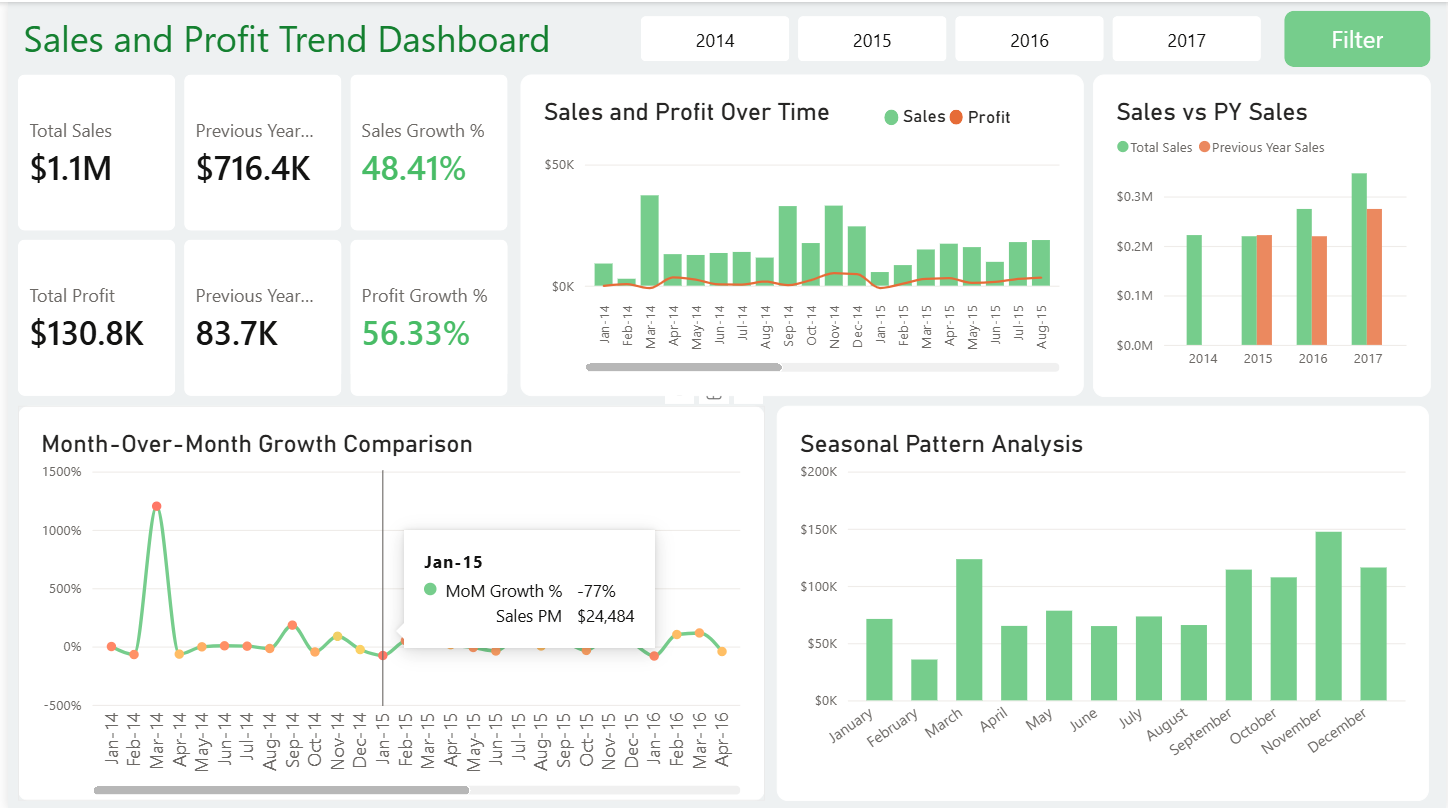

The dashboard page shown, as its layout file describes it:
{"tool":"powerbi","page":{"name":"Sales and Profit Trend Dashboard","canvas":[1280,720],"ordinal":1},"visuals":[{"type":"textbox","box":[9.3,5.8,538.2,59.4],"z":0},{"type":"lineChart","title":"Sales and Profit Over Time","fields":{"Category":["Dim_Date.Year-Month"],"Y":["Fact_Sales.Total Sales"],"Y2":["Fact_Sales.Total Profit"]},"box":[456.5,64.6,501.2,286.2],"z":0,"group":"g2"},{"type":"shape","box":[780.9,95.8,12.7,14.1],"z":0,"group":"g1"},{"type":"clusteredColumnChart","title":"Sales vs PY Sales ","fields":{"Y":["Fact_Sales.Total Sales","Fact_Sales.Previous Year Sales"],"Category":["Dim_Date.Year"]},"box":[966.2,64.6,300.6,287.2],"z":1000},{"type":"group","id":"g1","title":"Group 3","box":[780.9,92.8,116.2,19.4],"z":1000,"group":"g2"},{"type":"shape","box":[839,96.3,12.3,13.6],"z":1000,"group":"g1"},{"type":"shape","title":"Sales","box":[797.1,92.8,38.4,18.6],"z":2000,"group":"g1"},{"type":"lineChart","title":"Month-Over-Month Growth Comparison","fields":{"Category":["Dim_Date.Year-Month","Dim_Date.Year"],"Y":["Fact_Sales.MoM Growth %"]},"box":[8.9,359.6,664.6,351.8],"z":2000},{"type":"cardVisual","fields":{"Data":["Fact_Sales.Total Sales","Fact_Sales.Previous Year Sales","Fact_Sales.Sales Growth %","Fact_Sales.Total Profit","Fact_Sales.Previous Year Profit","Fact_Sales.Profit Growth %"]},"box":[8.9,64.6,437.5,287.2],"z":3000},{"type":"shape","title":"Profit","box":[856,93.4,41.1,18.6],"z":3000,"group":"g1"},{"type":"group","id":"g2","title":"Group 4","box":[456.5,64.6,501.2,286.2],"z":4000},{"type":"clusteredColumnChart","title":"Seasonal Pattern Analysis","fields":{"Y":["Fact_Sales.Total Sales"],"Category":["Dim_Date.Month Name"]},"box":[684.6,359.6,581.1,351.8],"z":5000},{"type":"advancedSlicerVisual","fields":{"Values":["Dim_Date.Year"]},"box":[556.6,7.8,565.5,50.1],"z":5500},{"type":"actionButton","title":"Filter Button","box":[1136.6,7.8,130.2,50.1],"z":6000}]}

Visuals, with their boxes in screenshot pixels (x1, y1, x2, y2), scaled from the page's 1280x720 canvas onto the 1448x808 screenshot:
textbox: 11,7,619,73
"Sales and Profit Over Time" lineChart: 516,72,1083,394
shape: 883,108,898,123
"Sales vs PY Sales " clusteredColumnChart: 1093,72,1433,395
"Group 3" group: 883,104,1015,126
shape: 949,108,963,123
"Sales" shape: 902,104,945,125
"Month-Over-Month Growth Comparison" lineChart: 10,404,762,798
cardVisual - Fact_Sales.Total Sales x Fact_Sales.Previous Year Sales: 10,72,505,395
"Profit" shape: 968,105,1015,126
"Group 4" group: 516,72,1083,394
"Seasonal Pattern Analysis" clusteredColumnChart: 774,404,1432,798
advancedSlicerVisual - Dim_Date.Year: 630,9,1269,65
"Filter Button" actionButton: 1286,9,1433,65
